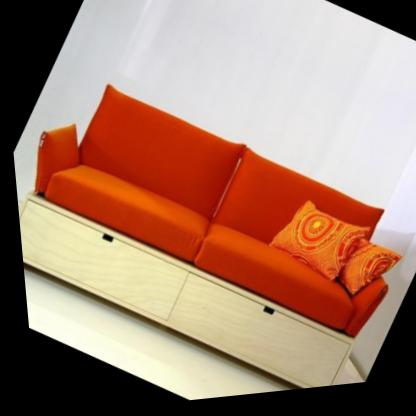Sofa: (5, 42, 416, 416)
